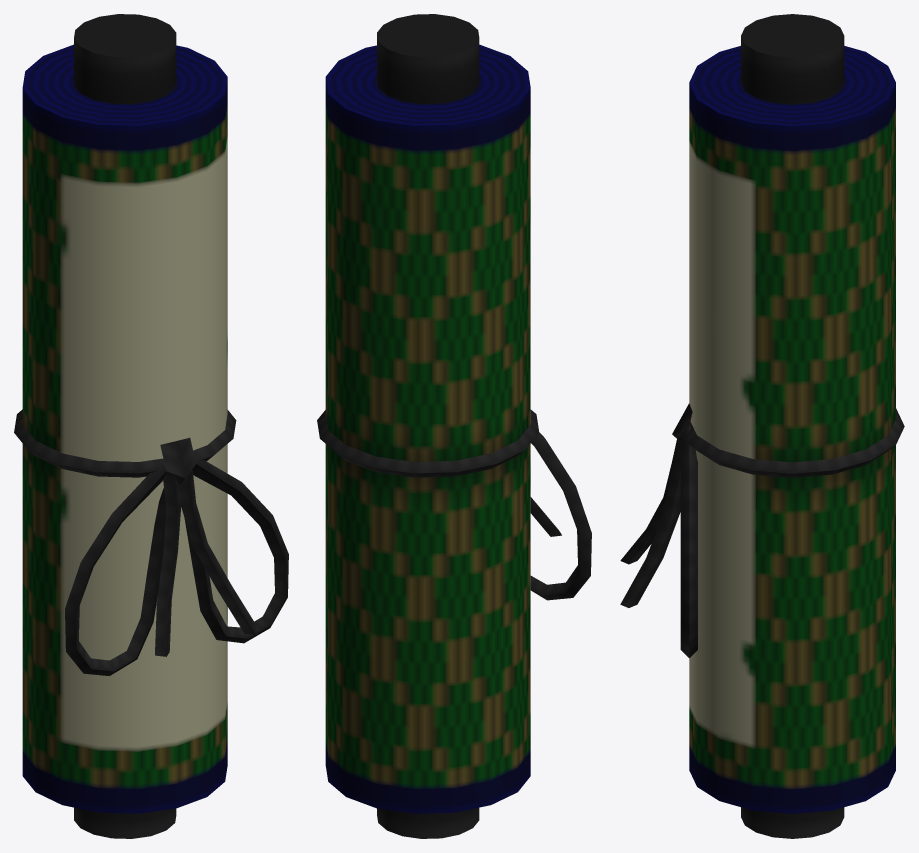
File: makimono1-1.fbx
The picture shows the model from 3 angles, left to right: view 1: azimuth 30°, elevation 25°; view 2: azimuth 150°, elevation 25°; view 3: azimuth 270°, elevation 25°; orthographic projection.
Visible parts, largest first — view 1: bdef:obj1; view 2: bdef:obj1; view 3: bdef:obj1.
Boxes of the visible parts, x1,y1,x2,y2 form: bdef:obj1: [14, 14, 288, 838]; bdef:obj1: [317, 14, 591, 838]; bdef:obj1: [620, 14, 904, 838].
Bounding box in the file's own units: 30 × 100 × 33.
